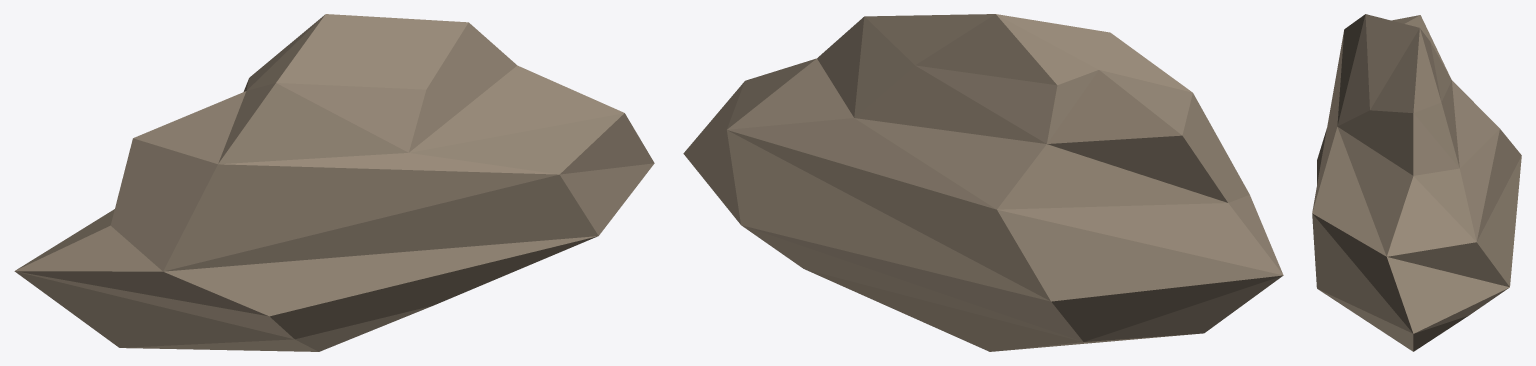
File: fbxBIGRock.fbx
The picture shows the model from 3 angles, left to right: view 1: azimuth 30°, elevation 25°; view 2: azimuth 150°, elevation 25°; view 3: azimuth 270°, elevation 25°; orthographic projection. The views are drawn at different scales.
Visible parts, largest first — view 1: pSphere14; view 2: pSphere14; view 3: pSphere14.
Boxes of the visible parts, x1,y1,x2,y2 form: pSphere14: (14,14,654,351); pSphere14: (683,14,1283,351); pSphere14: (1312,14,1521,351).
Bounding box in the file's own units: 11.6 × 6.04 × 4.21.
